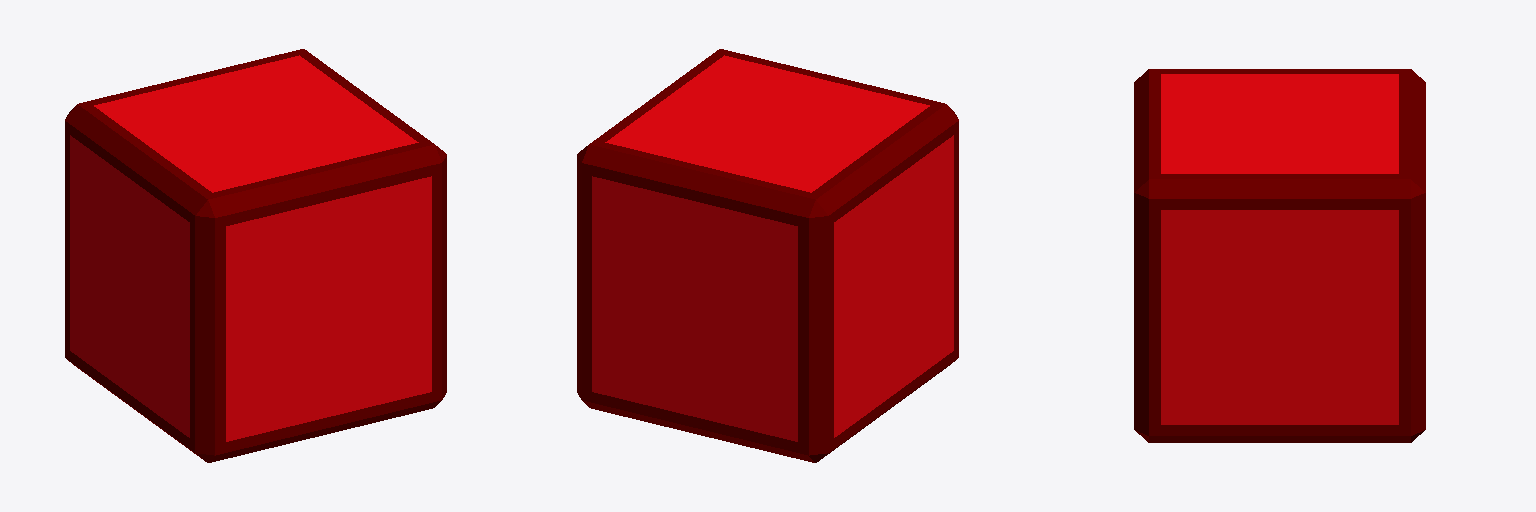
File: fig3_cub_red.obj
3 views of the same model, side by side, from view 1: azimuth 30°, elevation 25°; view 2: azimuth 150°, elevation 25°; view 3: azimuth 270°, elevation 25° (orthographic).
Parts seen in each view (by area): view 1: Cube; view 2: Cube; view 3: Cube.
Boxes of the visible parts, x1,y1,x2,y2 form: Cube: [65, 49, 446, 462]; Cube: [577, 49, 958, 462]; Cube: [1134, 69, 1425, 442].
Bounding box in the file's own units: 2 × 2 × 2.